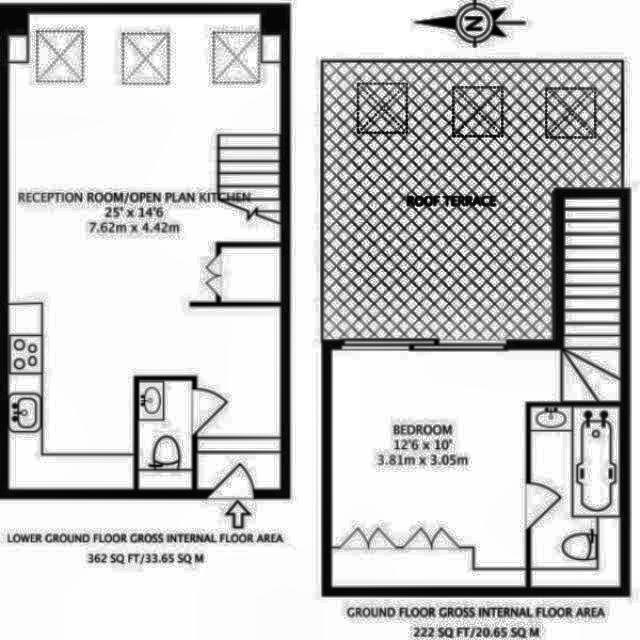room: (8, 11, 280, 489), (332, 196, 621, 587), (325, 60, 623, 338), (532, 407, 620, 586), (140, 381, 192, 488)
